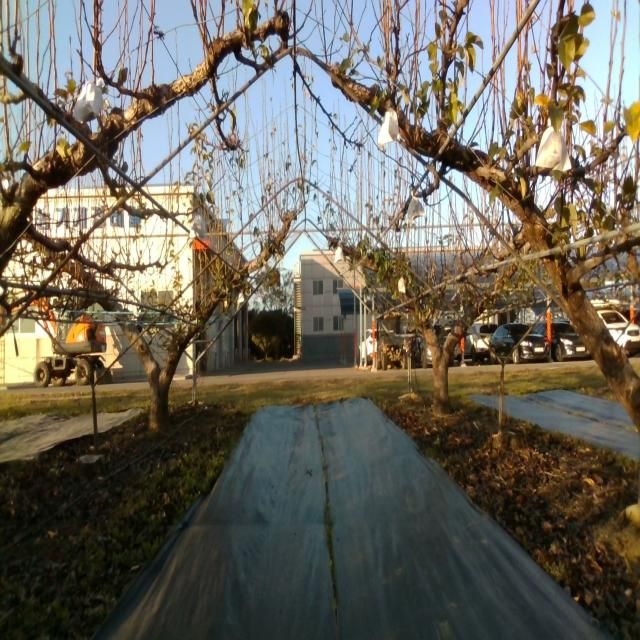pearbags: (535, 123, 573, 173), (74, 77, 104, 124), (377, 107, 400, 145), (406, 189, 426, 226), (189, 215, 205, 239), (334, 246, 345, 265)
